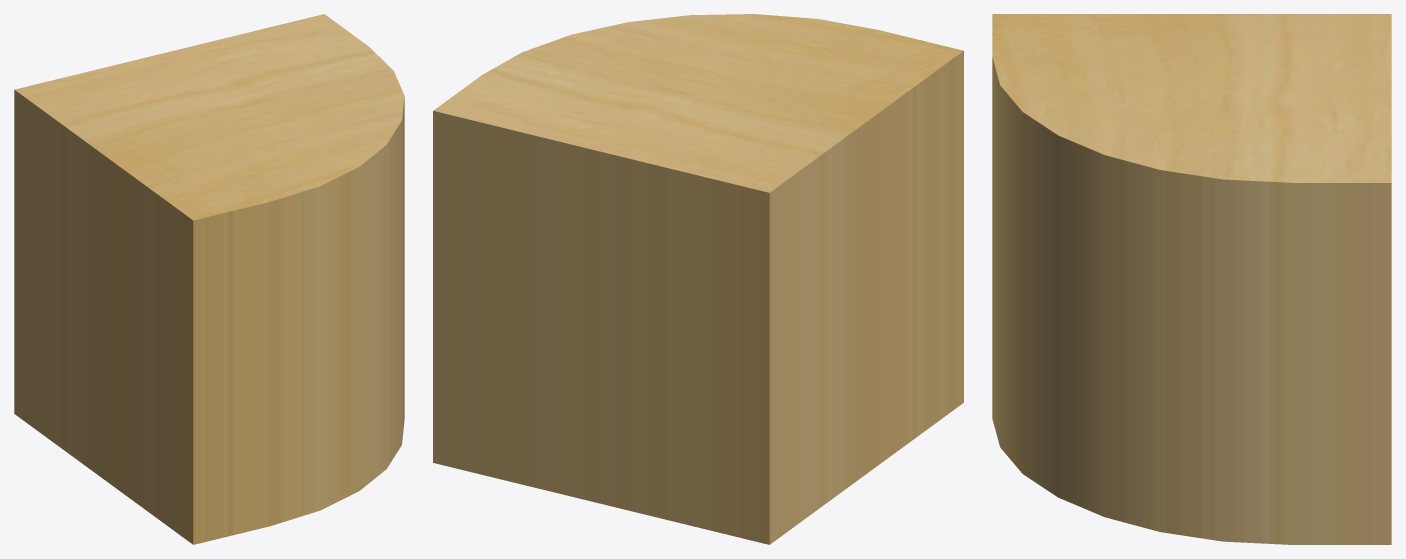
The model's file is sh-lp-mensola-curva-acero.glb.
3 views of the same model, side by side, from view 1: azimuth 30°, elevation 25°; view 2: azimuth 150°, elevation 25°; view 3: azimuth 270°, elevation 25° (orthographic). The views are drawn at different scales.
Parts seen in each view (by area): view 1: Rectangle15_1; view 2: Rectangle15_1; view 3: Rectangle15_1.
Boxes of the visible parts, x1=… form: Rectangle15_1: x1=14, y1=14, x2=404, y2=544; Rectangle15_1: x1=433, y1=14, x2=963, y2=544; Rectangle15_1: x1=992, y1=14, x2=1391, y2=544.
Size of the model in its own units: 1 by 1 by 1.
Materials: 1 (1 with a texture image).
